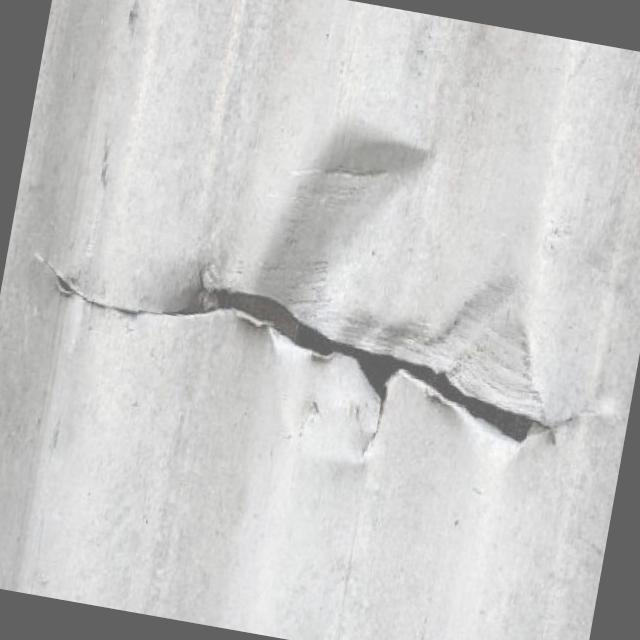crack: (24, 235, 580, 459)
dent: (262, 114, 439, 303)
